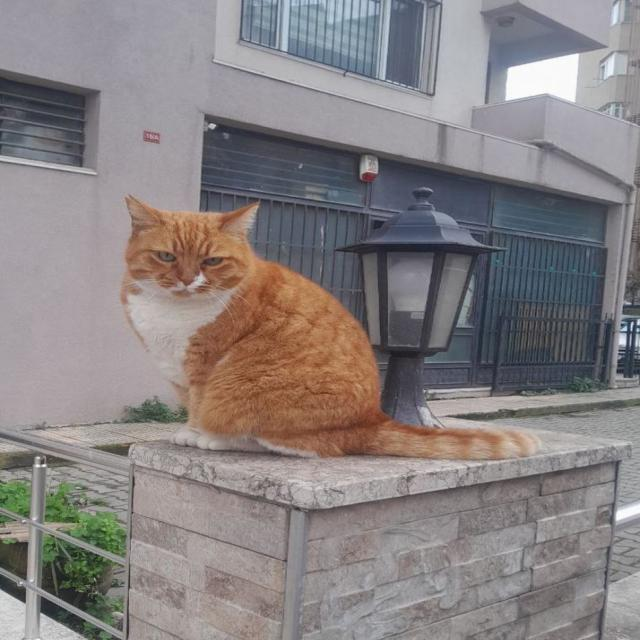kediler: (48, 192, 540, 509)
sarman: (48, 192, 540, 509)
